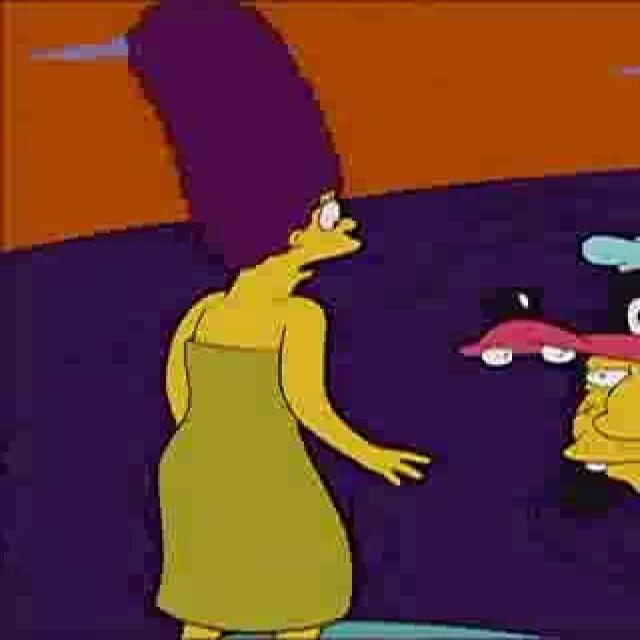Marge Simpson: (119, 0, 365, 303)
